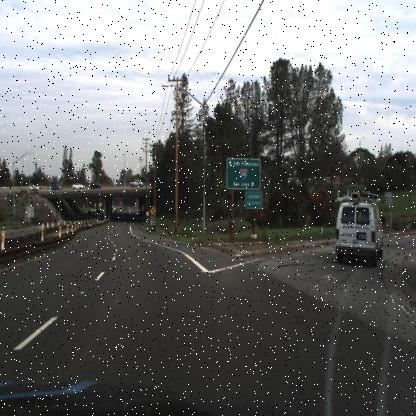car: (88, 178, 104, 193), (71, 180, 85, 190), (130, 178, 142, 188), (50, 181, 62, 190), (29, 182, 39, 191)
